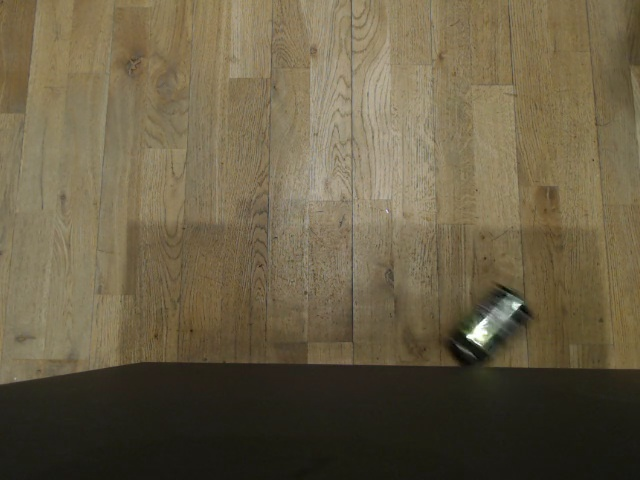beer: (439, 276, 537, 368)
